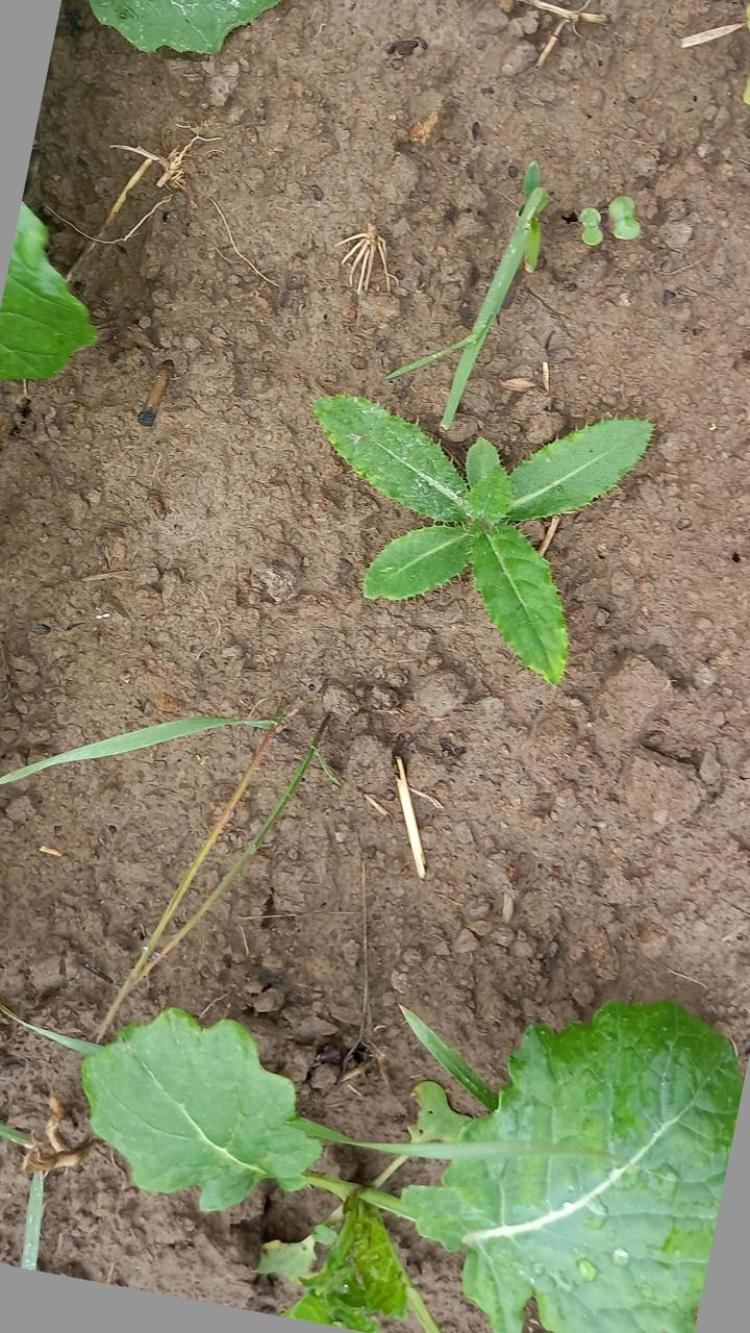bodyak: (308, 381, 662, 685)
